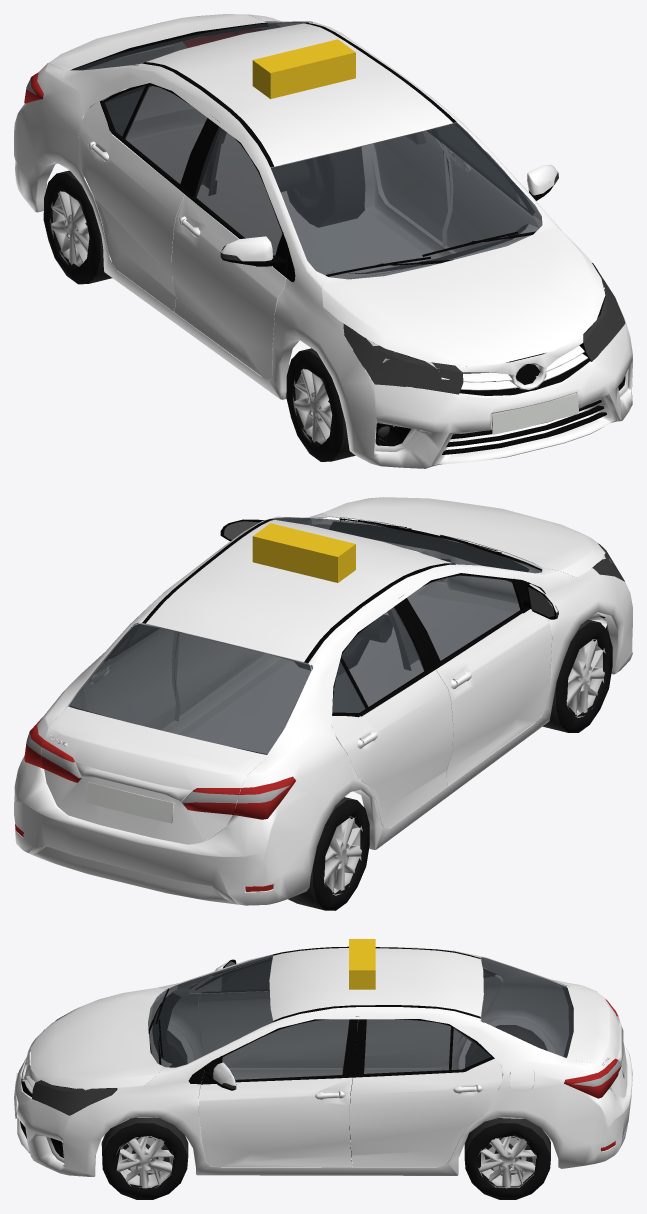
3 renders of one model, top to bottom at view 1: azimuth 30°, elevation 25°; view 2: azimuth 150°, elevation 25°; view 3: azimuth 270°, elevation 25°, orthographic. The views are drawn at different scales.
Visible parts, largest first — view 1: body, glass, wheel_FL, wheel_RL, wheel_RR; view 2: body, glass, wheel_RL, wheel_FL; view 3: body, glass, wheel_FR, wheel_RR, wheel_RL, wheel_FL.
Part boxes in pixels (bbox=[...]): body: bbox=[14, 14, 632, 468]; glass: bbox=[72, 22, 542, 279]; wheel_FL: bbox=[286, 348, 364, 461]; wheel_RL: bbox=[43, 170, 112, 284]; wheel_RR: bbox=[287, 147, 364, 227]; body: bbox=[14, 497, 632, 905]; glass: bbox=[68, 517, 542, 754]; wheel_RL: bbox=[288, 797, 369, 910]; wheel_FL: bbox=[543, 619, 612, 732]; body: bbox=[14, 939, 632, 1176]; glass: bbox=[148, 955, 573, 1079]; wheel_FR: bbox=[101, 1117, 188, 1199]; wheel_RR: bbox=[464, 1118, 550, 1199]; wheel_RL: bbox=[465, 1025, 547, 1067]; wheel_FL: bbox=[150, 1031, 187, 1067].
Bounding box in the file's own units: 2.17 × 1.62 × 4.62.
